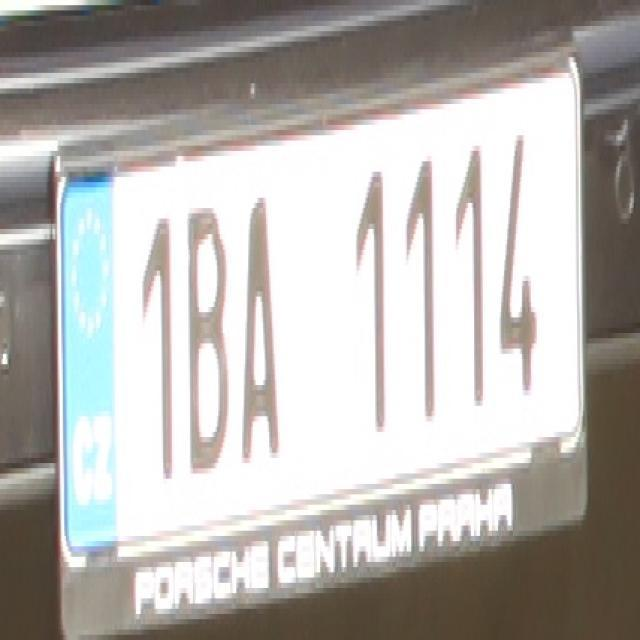1: (452, 130, 488, 411), (405, 151, 440, 437), (139, 213, 174, 479), (356, 172, 389, 432)
4: (492, 124, 540, 390)
A: (238, 192, 282, 468)
B: (187, 197, 230, 473)
